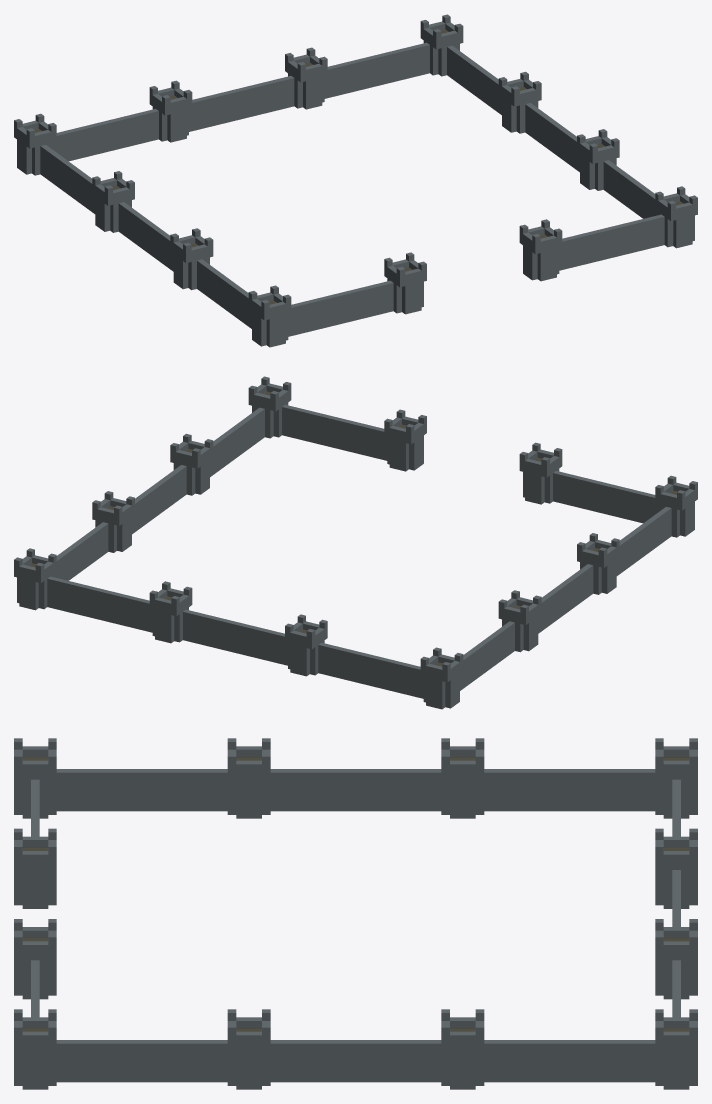
File: wall_fence_overtile.glb
3 views of the same model, one above another, from view 1: azimuth 30°, elevation 25°; view 2: azimuth 150°, elevation 25°; view 3: azimuth 270°, elevation 25° (orthographic). The views are drawn at different scales.
Parts seen in each view (by area): view 1: wall_fence_overtile; view 2: wall_fence_overtile; view 3: wall_fence_overtile.
Boxes of the visible parts, <box> form: wall_fence_overtile: <box>14,14,697,347</box>; wall_fence_overtile: <box>14,376,697,709</box>; wall_fence_overtile: <box>14,738,697,1089</box>.
Bounding box in the file's own units: 8 × 0.8 × 8.
1 material, 1 textured.
